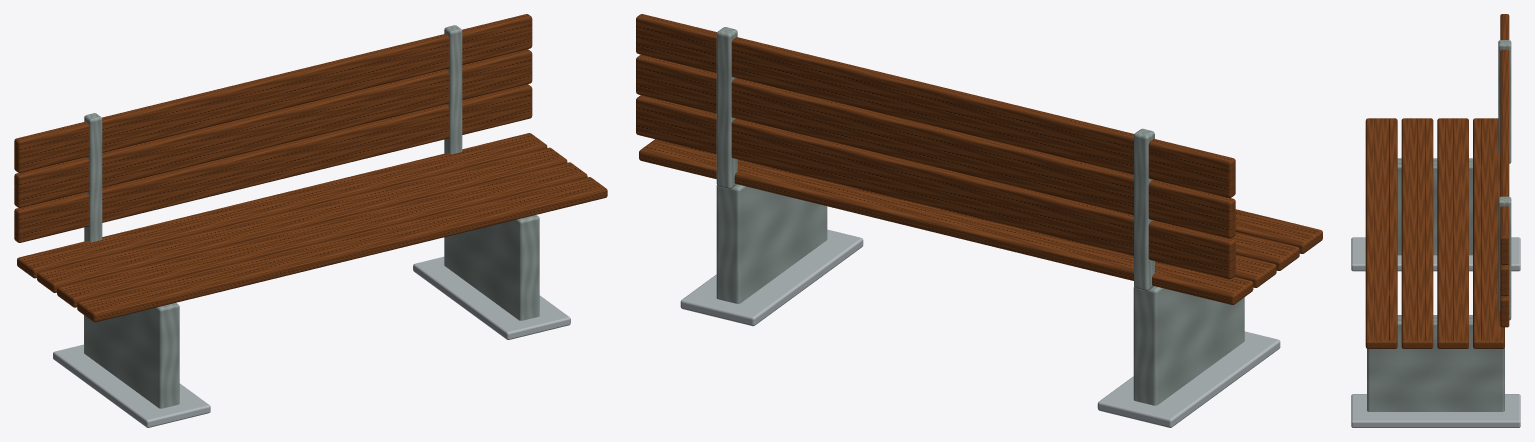
File: liminal-spaces-kit-mall-bench-8b77124a__25263.glb
3 renders of one model, left to right at view 1: azimuth 30°, elevation 25°; view 2: azimuth 150°, elevation 25°; view 3: azimuth 270°, elevation 25°, orthographic. The views are drawn at different scales.
Visible parts, largest first — view 1: mall-bench; view 2: mall-bench; view 3: mall-bench.
Part boxes in pixels (<box>): mall-bench: <box>14,14,607,427</box>; mall-bench: <box>636,14,1322,427</box>; mall-bench: <box>1351,14,1520,427</box>.
Bounding box in the file's own units: 2 × 0.9 × 0.64.
3 materials, 2 textured.
